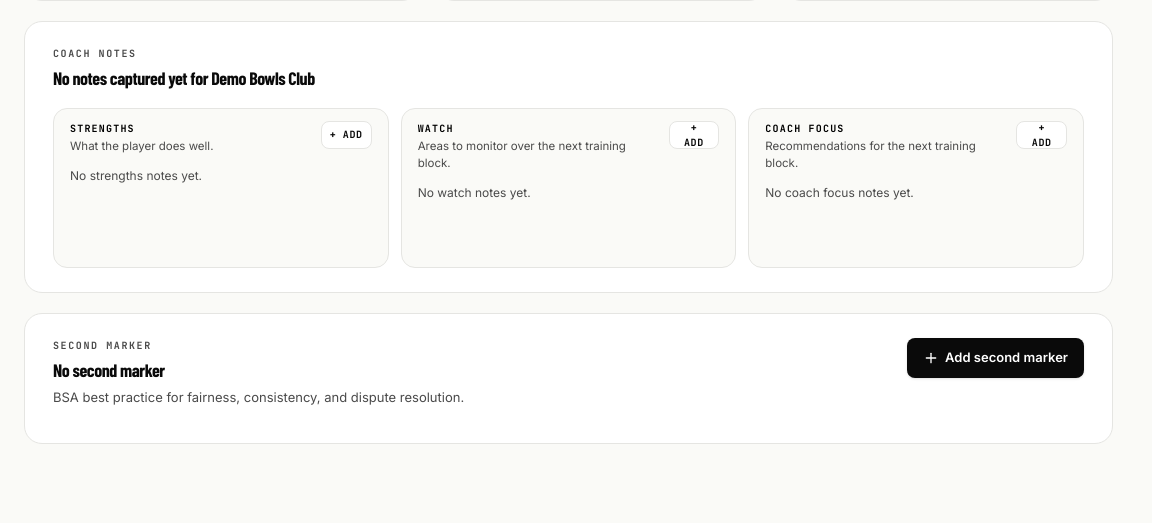
Test: <AssessmentResults /> — second marker section › validation error from action surfaces inline + does not toast.error
(page scrolled)
Click the button "Add second marker".
click(996, 358)  # box [907, 338, 1084, 378]
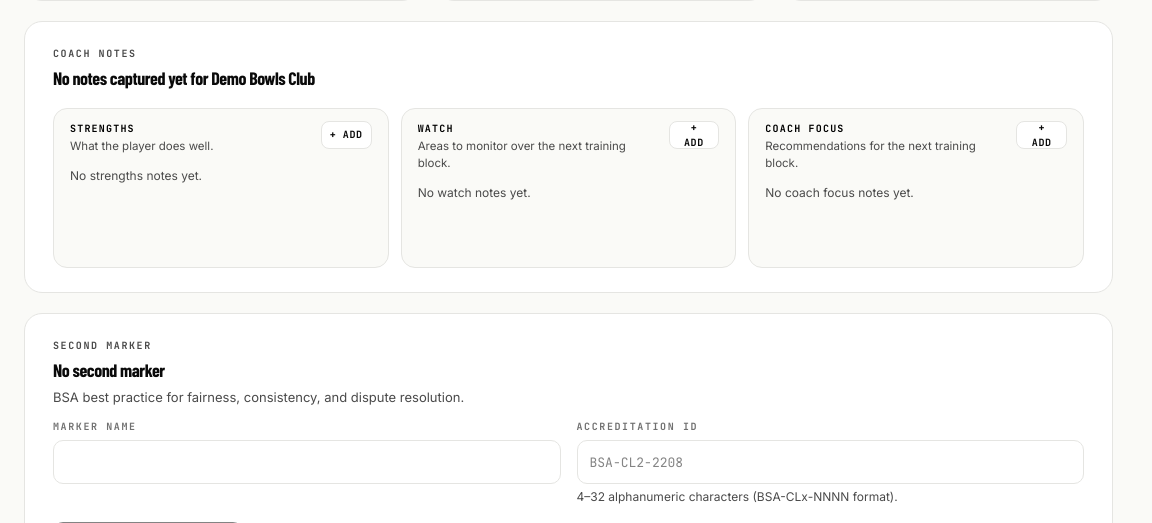
Type "M" into the field labelled "Marker name".
click(307, 462); type("M")  # box [53, 440, 560, 484]
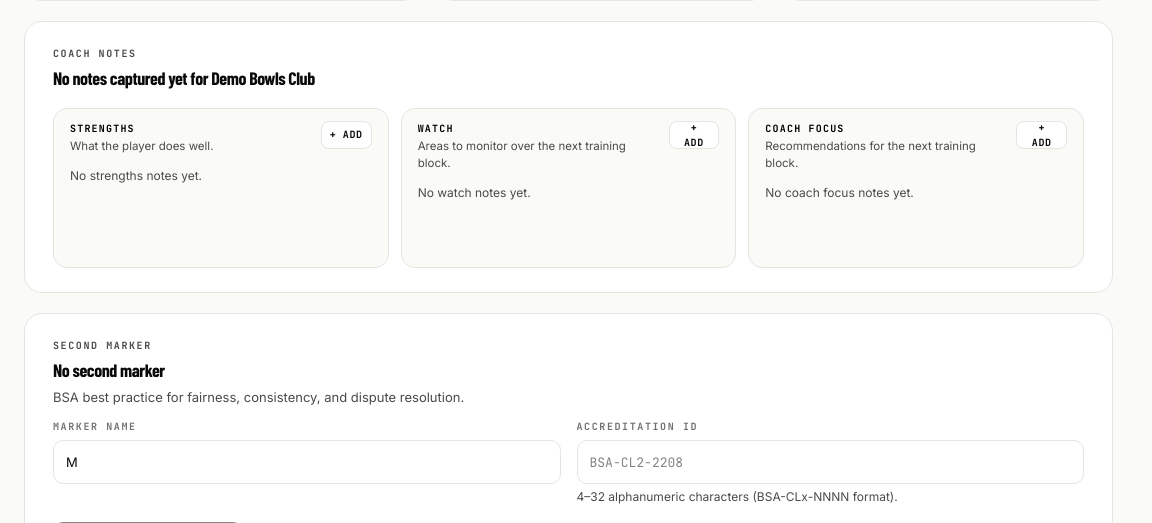
Type "ABCD" into the field labelled "Accreditation ID".
click(830, 462); type("ABCD")  # box [576, 440, 1084, 484]
(page scrolled)
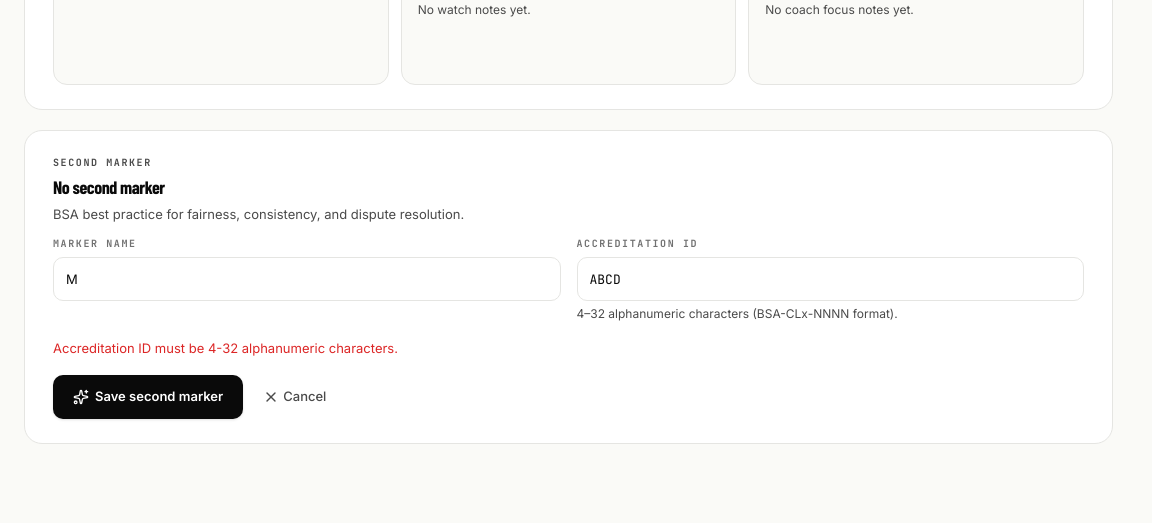
Expected: the message "Accreditation ID must be 4-32 alphanumeric characters." is shown, [53, 340, 398, 356]
